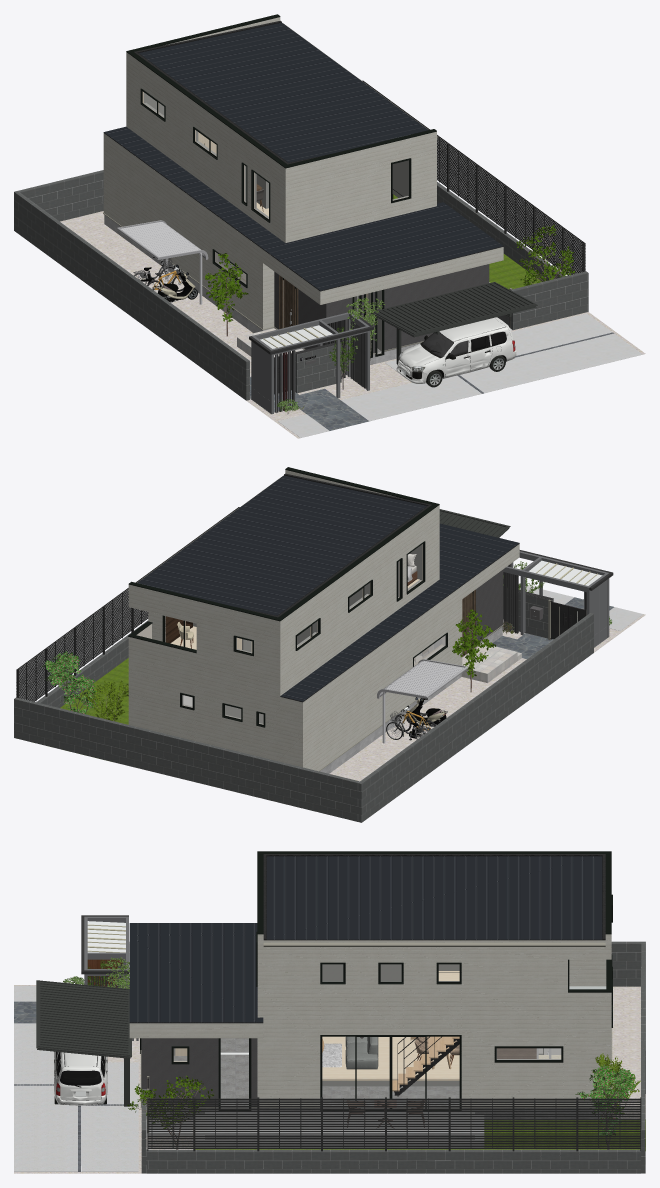
Rendered from bimx-house.glb.
3 views of the same model, one above another, from view 1: azimuth 30°, elevation 25°; view 2: azimuth 150°, elevation 25°; view 3: azimuth 270°, elevation 25° (orthographic). The views are drawn at different scales.
Parts seen in each view (by area): view 1: D6B23CE7-2067-4C53-BA7C-EB4E125C2843, C6643C8A-499E-4EAD-9B48-AE194C76E3DF, E8621175-3DD2-445E-BD1A-055D6A40E3A8, 691A5CE2-DC28-434A-ACB6-96523A1A55AA, 38CEC5E1-3DFA-46B2-A622-7FAAF4F2D322, EFF67884-E235-4A2B-928D-69ADF55BE406, 271203FE-C1B6-4271-9525-765D108F88A7, 278CF8BA-065D-41EB-882D-843A25604A5E, 9F099976-03A4-4B35-9A29-334EB3F6DC66, ABB45CF1-3FFA-4DD1-A5E8-1224B2D2135B, 8C6D83AC-F96E-4BFD-A901-692B500D218D, 6551985C-09CD-4D14-894C-BF96878E243D; view 2: D6B23CE7-2067-4C53-BA7C-EB4E125C2843, C6643C8A-499E-4EAD-9B48-AE194C76E3DF, 691A5CE2-DC28-434A-ACB6-96523A1A55AA, 38CEC5E1-3DFA-46B2-A622-7FAAF4F2D322, EFF67884-E235-4A2B-928D-69ADF55BE406, 2C74AE4B-2A86-4C89-9752-A7680123057B, ABB45CF1-3FFA-4DD1-A5E8-1224B2D2135B, 271203FE-C1B6-4271-9525-765D108F88A7, 79E85575-60BD-4755-8200-3607B5A1314C, 278CF8BA-065D-41EB-882D-843A25604A5E, 3C2681B4-FD01-4AB1-8563-45AB2EC16839, 9F099976-03A4-4B35-9A29-334EB3F6DC66 (+2 smaller); view 3: D6B23CE7-2067-4C53-BA7C-EB4E125C2843, 691A5CE2-DC28-434A-ACB6-96523A1A55AA, E8621175-3DD2-445E-BD1A-055D6A40E3A8, C6643C8A-499E-4EAD-9B48-AE194C76E3DF, 38CEC5E1-3DFA-46B2-A622-7FAAF4F2D322, ABB45CF1-3FFA-4DD1-A5E8-1224B2D2135B, 2C74AE4B-2A86-4C89-9752-A7680123057B, 271203FE-C1B6-4271-9525-765D108F88A7, EFF67884-E235-4A2B-928D-69ADF55BE406, 8A8CEE1C-5146-4E6A-8EF2-063DCB68B747, 278CF8BA-065D-41EB-882D-843A25604A5E, 8C6D83AC-F96E-4BFD-A901-692B500D218D (+2 smaller).
Boxes of the visible parts, x1=… form: D6B23CE7-2067-4C53-BA7C-EB4E125C2843: x1=103, y1=14, x2=537, y2=387; C6643C8A-499E-4EAD-9B48-AE194C76E3DF: x1=14, y1=170, x2=588, y2=400; E8621175-3DD2-445E-BD1A-055D6A40E3A8: x1=278, y1=282, x2=642, y2=437; 691A5CE2-DC28-434A-ACB6-96523A1A55AA: x1=274, y1=80, x2=585, y2=394; 38CEC5E1-3DFA-46B2-A622-7FAAF4F2D322: x1=60, y1=211, x2=645, y2=438; EFF67884-E235-4A2B-928D-69ADF55BE406: x1=251, y1=312, x2=369, y2=414; 271203FE-C1B6-4271-9525-765D108F88A7: x1=205, y1=224, x2=575, y2=336; 278CF8BA-065D-41EB-882D-843A25604A5E: x1=249, y1=311, x2=373, y2=412; 9F099976-03A4-4B35-9A29-334EB3F6DC66: x1=250, y1=377, x2=369, y2=430; ABB45CF1-3FFA-4DD1-A5E8-1224B2D2135B: x1=393, y1=194, x2=541, y2=289; 8C6D83AC-F96E-4BFD-A901-692B500D218D: x1=346, y1=297, x2=384, y2=360; 6551985C-09CD-4D14-894C-BF96878E243D: x1=156, y1=264, x2=197, y2=302; D6B23CE7-2067-4C53-BA7C-EB4E125C2843: x1=128, y1=467, x2=602, y2=773; C6643C8A-499E-4EAD-9B48-AE194C76E3DF: x1=14, y1=590, x2=593, y2=822; 691A5CE2-DC28-434A-ACB6-96523A1A55AA: x1=16, y1=507, x2=586, y2=701; 38CEC5E1-3DFA-46B2-A622-7FAAF4F2D322: x1=114, y1=614, x2=645, y2=804; EFF67884-E235-4A2B-928D-69ADF55BE406: x1=503, y1=551, x2=609, y2=647; 2C74AE4B-2A86-4C89-9752-A7680123057B: x1=41, y1=651, x2=99, y2=714; ABB45CF1-3FFA-4DD1-A5E8-1224B2D2135B: x1=60, y1=658, x2=128, y2=724; 271203FE-C1B6-4271-9525-765D108F88A7: x1=452, y1=609, x2=495, y2=692; 79E85575-60BD-4755-8200-3607B5A1314C: x1=461, y1=643, x2=521, y2=682; 278CF8BA-065D-41EB-882D-843A25604A5E: x1=502, y1=550, x2=613, y2=633; 3C2681B4-FD01-4AB1-8563-45AB2EC16839: x1=85, y1=680, x2=128, y2=722; 9F099976-03A4-4B35-9A29-334EB3F6DC66: x1=492, y1=597, x2=613, y2=658; D6B23CE7-2067-4C53-BA7C-EB4E125C2843: x1=36, y1=851, x2=612, y2=1127; 691A5CE2-DC28-434A-ACB6-96523A1A55AA: x1=147, y1=1076, x2=641, y2=1151; E8621175-3DD2-445E-BD1A-055D6A40E3A8: x1=14, y1=986, x2=484, y2=1171; C6643C8A-499E-4EAD-9B48-AE194C76E3DF: x1=129, y1=941, x2=645, y2=1173; 38CEC5E1-3DFA-46B2-A622-7FAAF4F2D322: x1=14, y1=985, x2=645, y2=1173; ABB45CF1-3FFA-4DD1-A5E8-1224B2D2135B: x1=195, y1=1119, x2=645, y2=1150; 2C74AE4B-2A86-4C89-9752-A7680123057B: x1=575, y1=1065, x2=635, y2=1149; 271203FE-C1B6-4271-9525-765D108F88A7: x1=127, y1=1075, x2=213, y2=1149; EFF67884-E235-4A2B-928D-69ADF55BE406: x1=84, y1=916, x2=138, y2=1040; 8A8CEE1C-5146-4E6A-8EF2-063DCB68B747: x1=87, y1=924, x2=125, y2=987; 278CF8BA-065D-41EB-882D-843A25604A5E: x1=81, y1=915, x2=128, y2=988; 8C6D83AC-F96E-4BFD-A901-692B500D218D: x1=105, y1=957, x2=129, y2=988.
Bounding box in the file's own units: 13.99 × 6.46 × 19.81.
155 materials, 124 textured.
